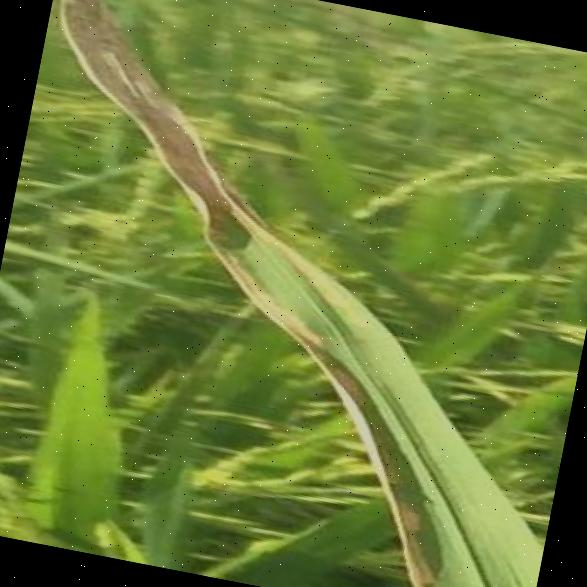Bacteria_Leaf_Blight: (179, 178, 396, 400)
